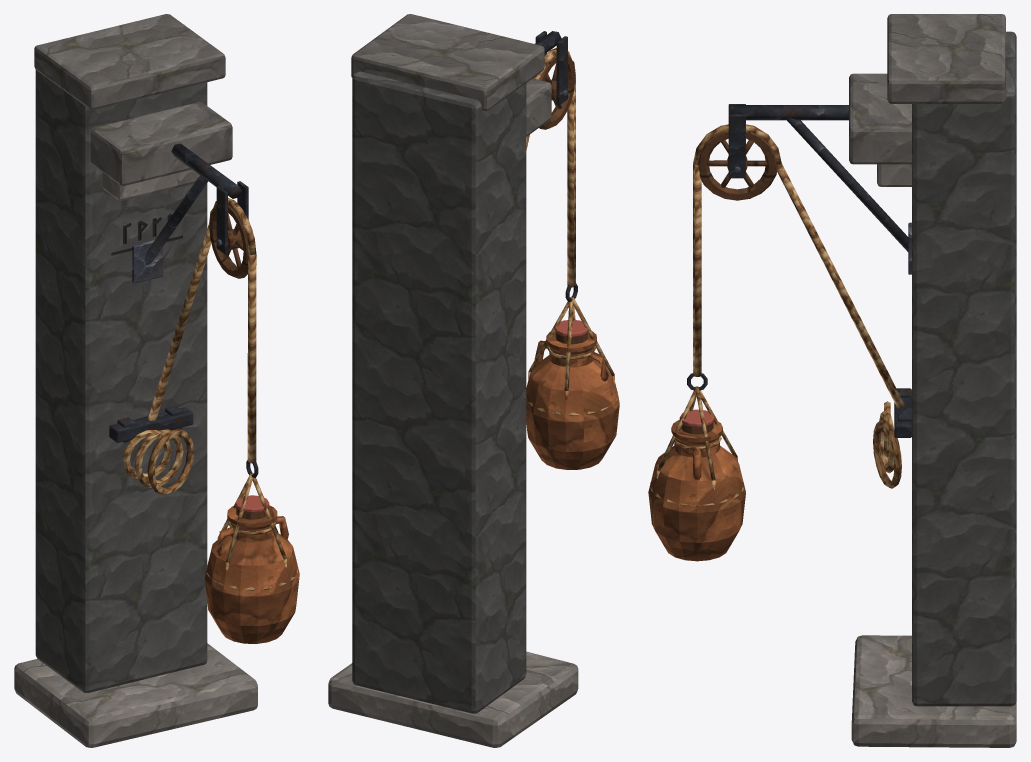
File: rs_oil_hoist.glb
3 renders of one model, left to right at view 1: azimuth 30°, elevation 25°; view 2: azimuth 150°, elevation 25°; view 3: azimuth 270°, elevation 25°, orthographic.
Visible parts, largest first — view 1: model; view 2: model; view 3: model.
Boxes of the visible parts, x1,y1,x2,y2 form: model: (14,14,299,747); model: (328,14,619,747); model: (648,14,1016,747).
Bounding box in the file's own units: 0.586 × 2.09 × 1.06.
10 materials, 8 textured.
